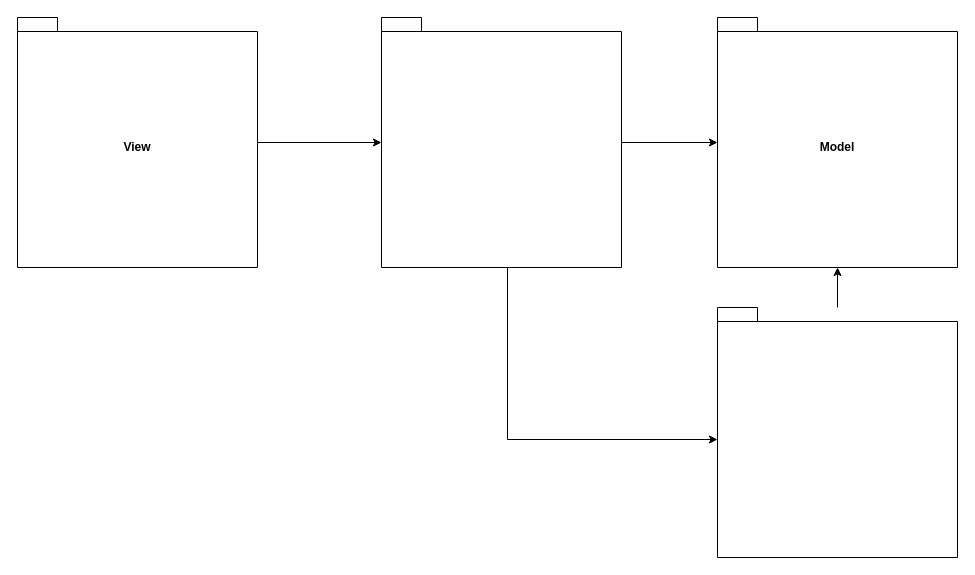
This 975x575 diagram has some shape labels left out. The centre of each missing label's shape, as x and y in pixels:
"Network" goes at (837,432).
"ViewModel" goes at (501,142).
